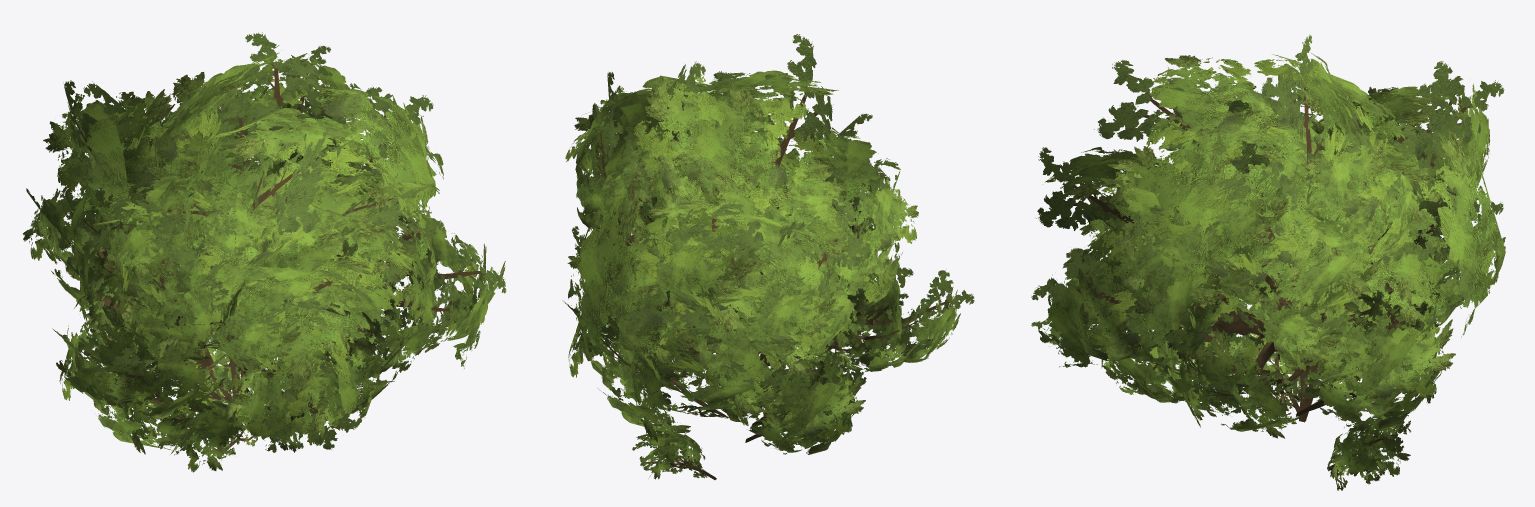
File: Arbre01_Feuillage_TransferedNormals.fbx
3 views of the same model, side by side, from view 1: azimuth 30°, elevation 25°; view 2: azimuth 150°, elevation 25°; view 3: azimuth 270°, elevation 25° (orthographic). The views are drawn at different scales.
Parts seen in each view (by area): view 1: Arbre01_Feuillage_TransferedNormals; view 2: Arbre01_Feuillage_TransferedNormals; view 3: Arbre01_Feuillage_TransferedNormals.
Part boxes in pixels (box(x1,y1,x2,y2)): Arbre01_Feuillage_TransferedNormals: box(23, 32, 506, 472); Arbre01_Feuillage_TransferedNormals: box(562, 34, 974, 479); Arbre01_Feuillage_TransferedNormals: box(1031, 34, 1505, 490).
Bounding box in the file's own units: 6.52 × 6.8 × 6.59.
